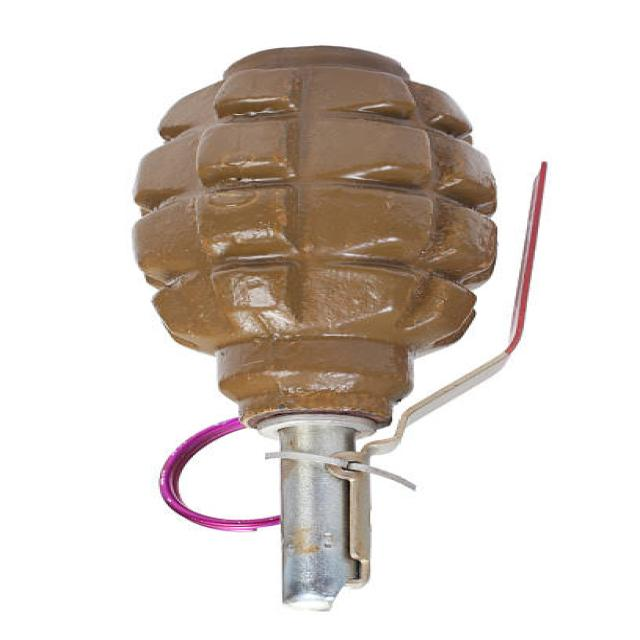grenade: (114, 39, 577, 622)
